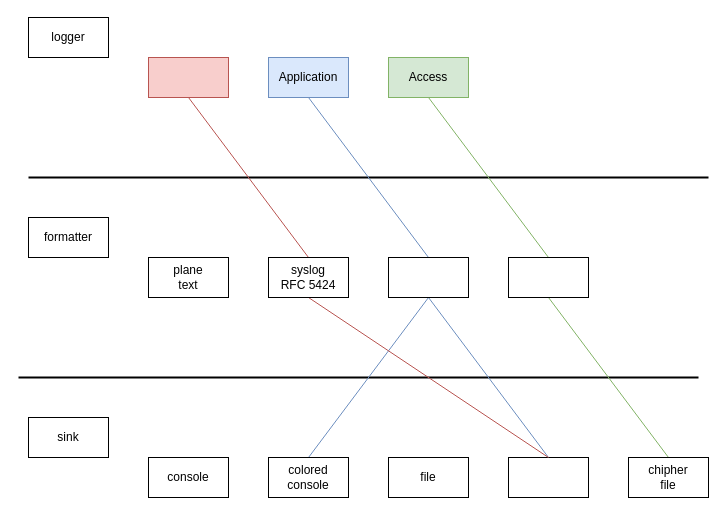
This 727x515 diagram has some shape labels left out. The centre of each missing label's shape, as x and y in pixels:
common log format: point (548, 277)
json: point (428, 277)
rotation file: point (548, 477)
System: point (188, 77)
